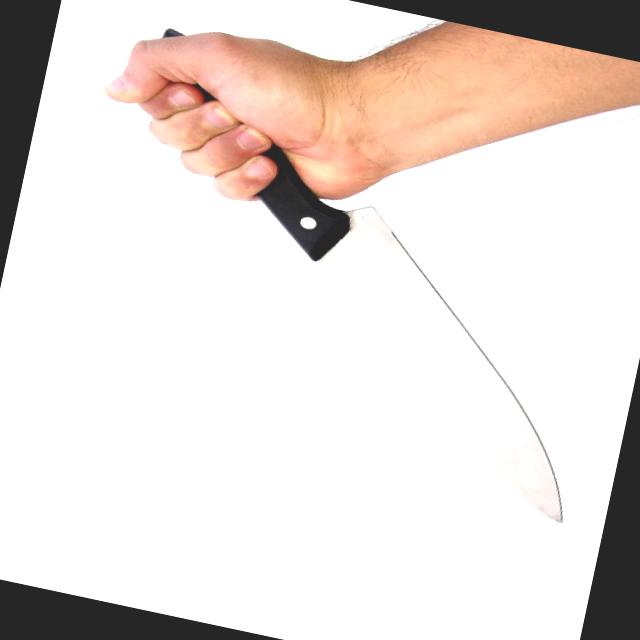knife: (28, 35, 639, 535)
